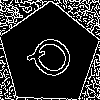Q: (24, 29, 85, 90)
